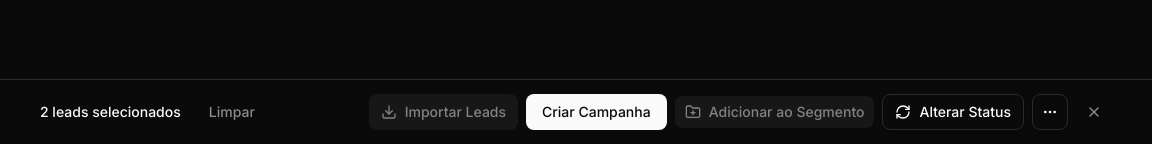
Test: LeadSelectionBar › Bulk Delete (Story 12.5) › AC#2: shows 'Excluir Leads' in dropdown menu
The width and height of the screenshot is (1152, 144).
Click the 1st button named "Mais opções" at [1050, 112], box left=1032, top=94, right=1068, bottom=130
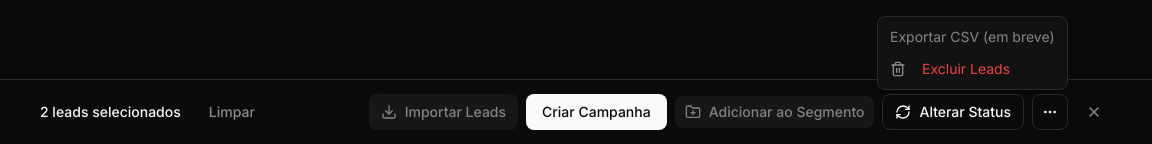
Result: the menu item "Excluir Leads" is shown at left=890, top=60, right=1010, bottom=77
